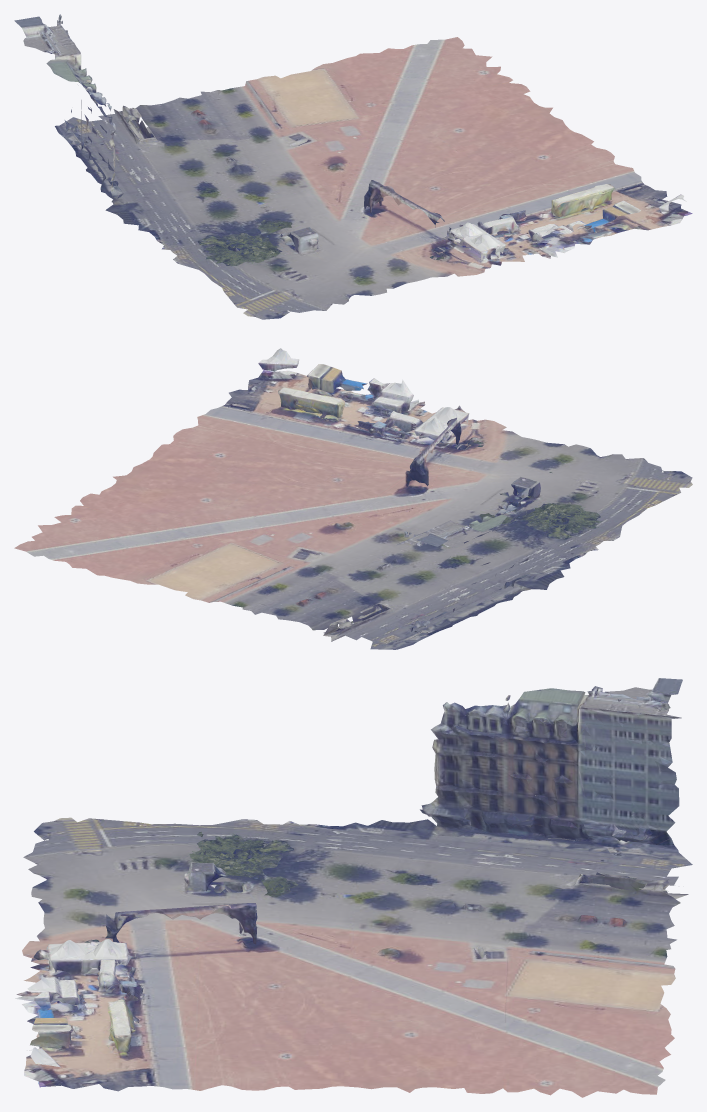
3 renders of one model, top to bottom at view 1: azimuth 30°, elevation 25°; view 2: azimuth 150°, elevation 25°; view 3: azimuth 270°, elevation 25°, orthographic. The views are drawn at different scales.
Size of the model in its own units: 107 by 29.11 by 110.
Materials: 1 (1 with a texture image).
